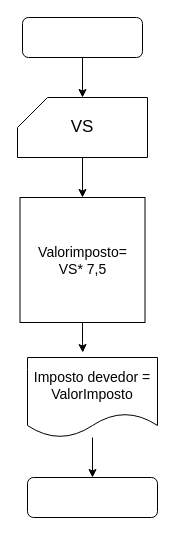
Some shapes in this 175 by 535 pixel diagram are drawn without their labels. Here are the shapes that lost their labels. From the top down, the centre of each, then its label:
(82,37): Inicio
(92,497): Fim
